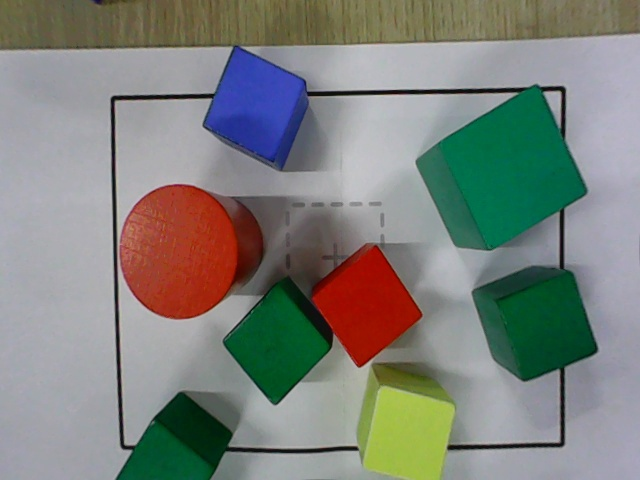upside of big cube: (437, 84, 589, 251)
upside of cylinder: (121, 184, 239, 319)
upside of small cube: (311, 245, 424, 368), (223, 283, 330, 405), (202, 45, 305, 164), (496, 271, 599, 382), (361, 385, 458, 479), (114, 419, 216, 479)
